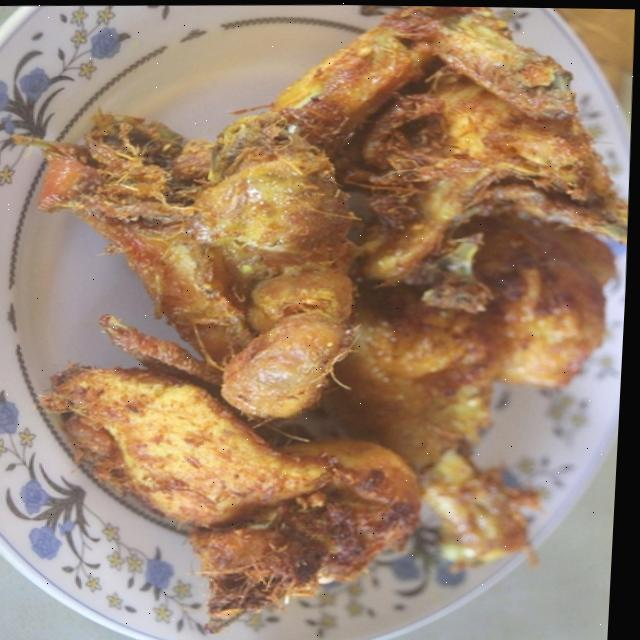鸡肉料理 含炸鸡: (0, 1, 612, 630)
